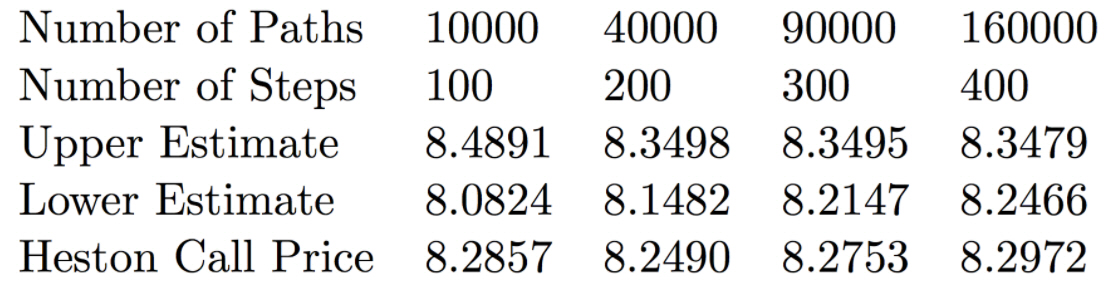table: (16, 1, 1114, 285)
